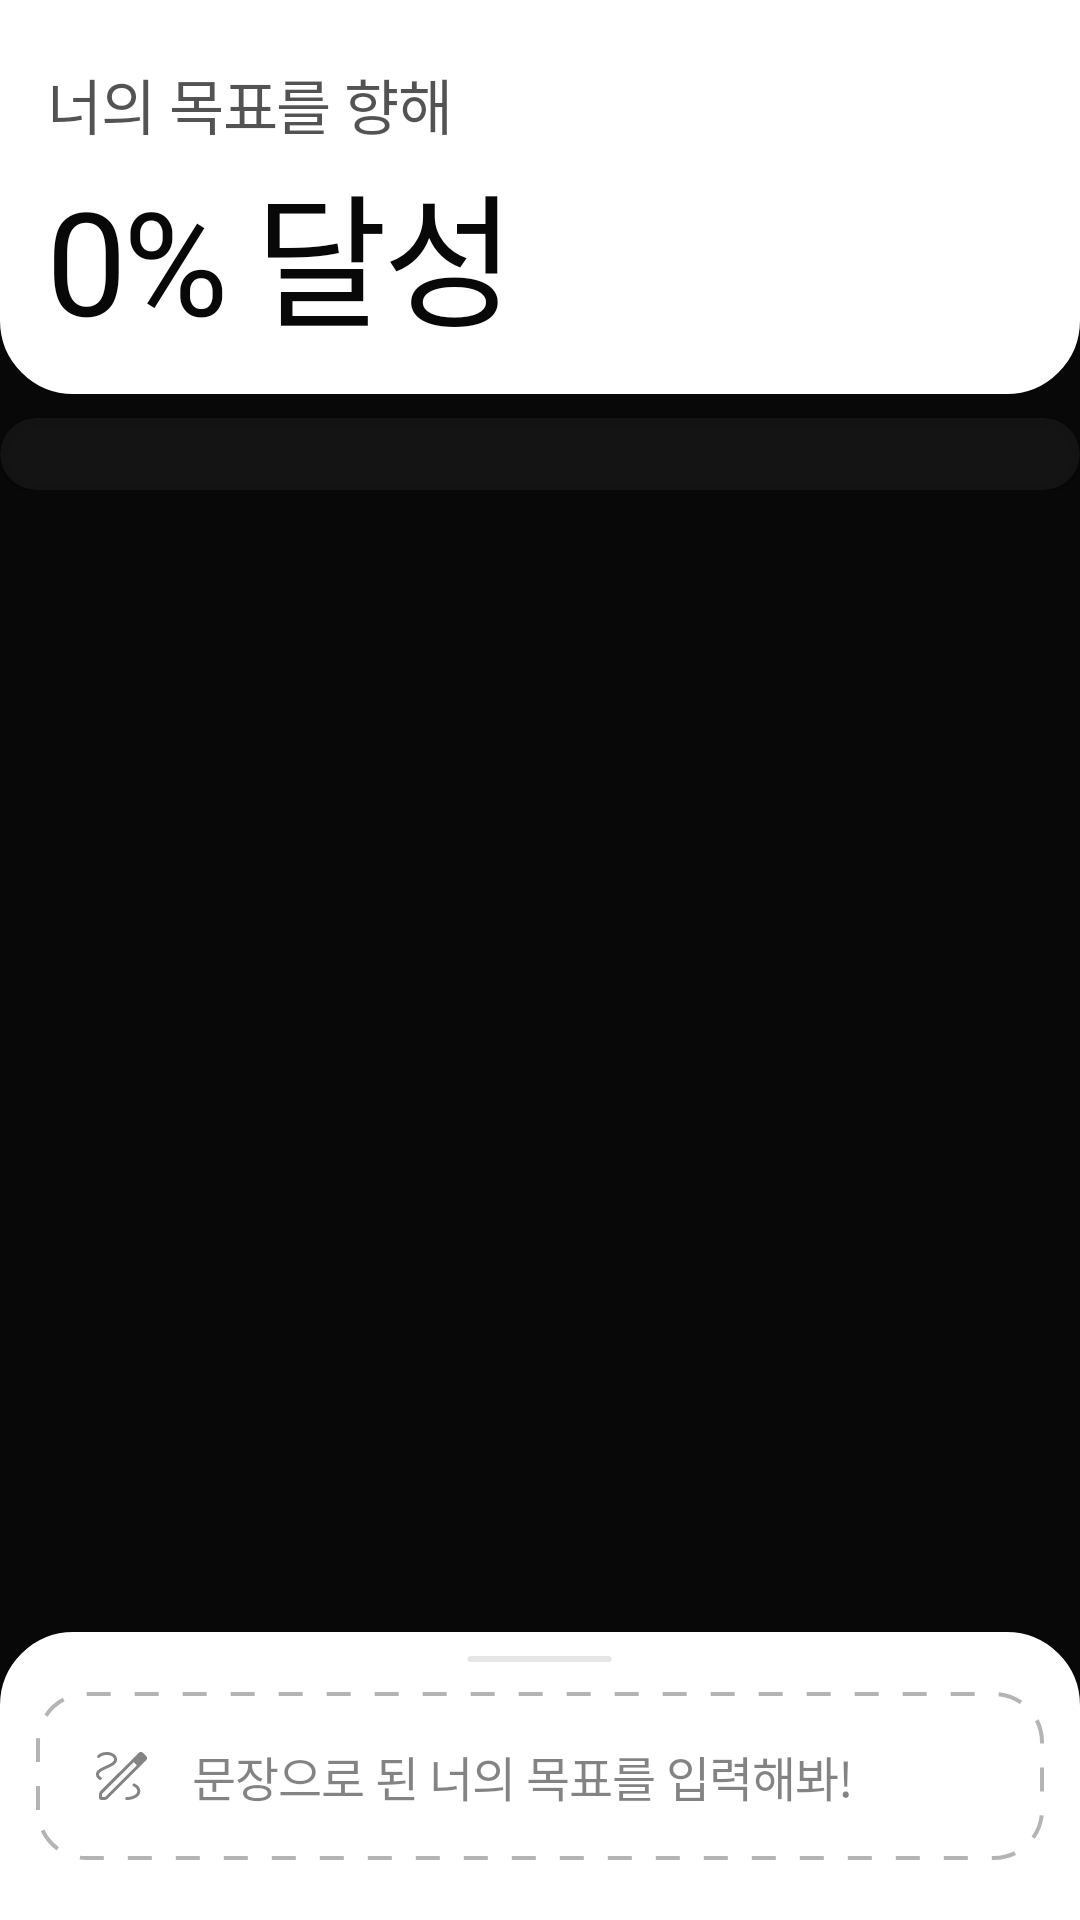

Screen size 1080px x 1920px. Icon name, then its center in pixels as (x,y):
draw: (121,1776)
